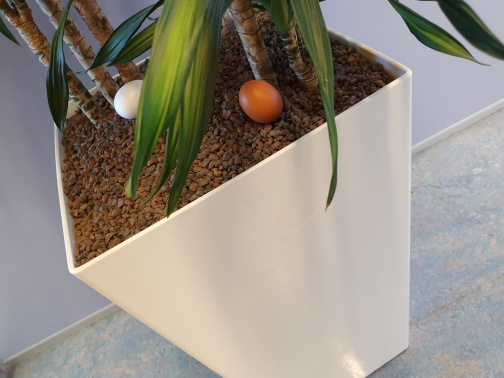egg: (239, 79, 283, 122), (111, 79, 145, 118)
